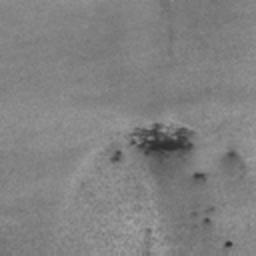Iron sheet ash: (123, 123, 200, 159), (110, 150, 122, 163), (227, 150, 238, 159), (195, 172, 206, 179)
